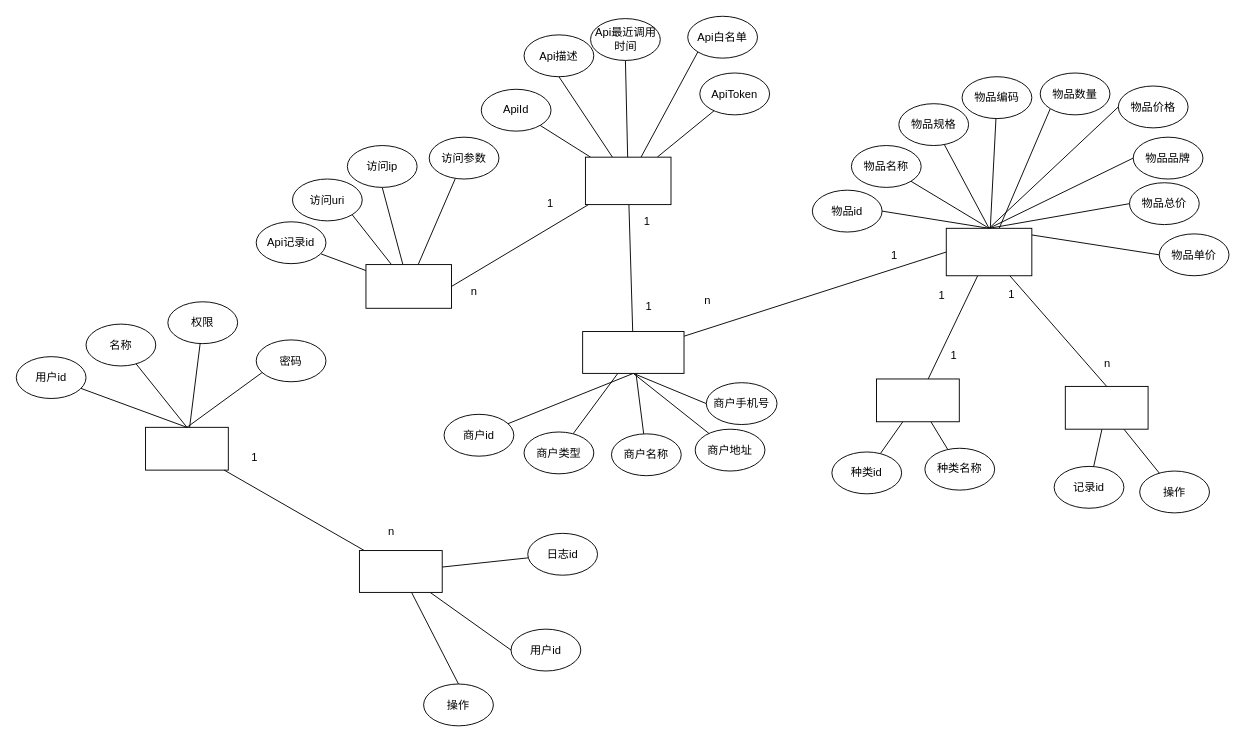
This 1245x742 diagram has some shape labels left out. Here are the shapes that lost their labels. From the top down, the centre of each, then its label:
pixel 628 180: Api
pixel 988 251: 物品
pixel 408 286: Api记录
pixel 633 352: 商户
pixel 917 400: 物品种类
pixel 1106 407: 物品记录
pixel 186 448: 用户
pixel 400 571: 日志
